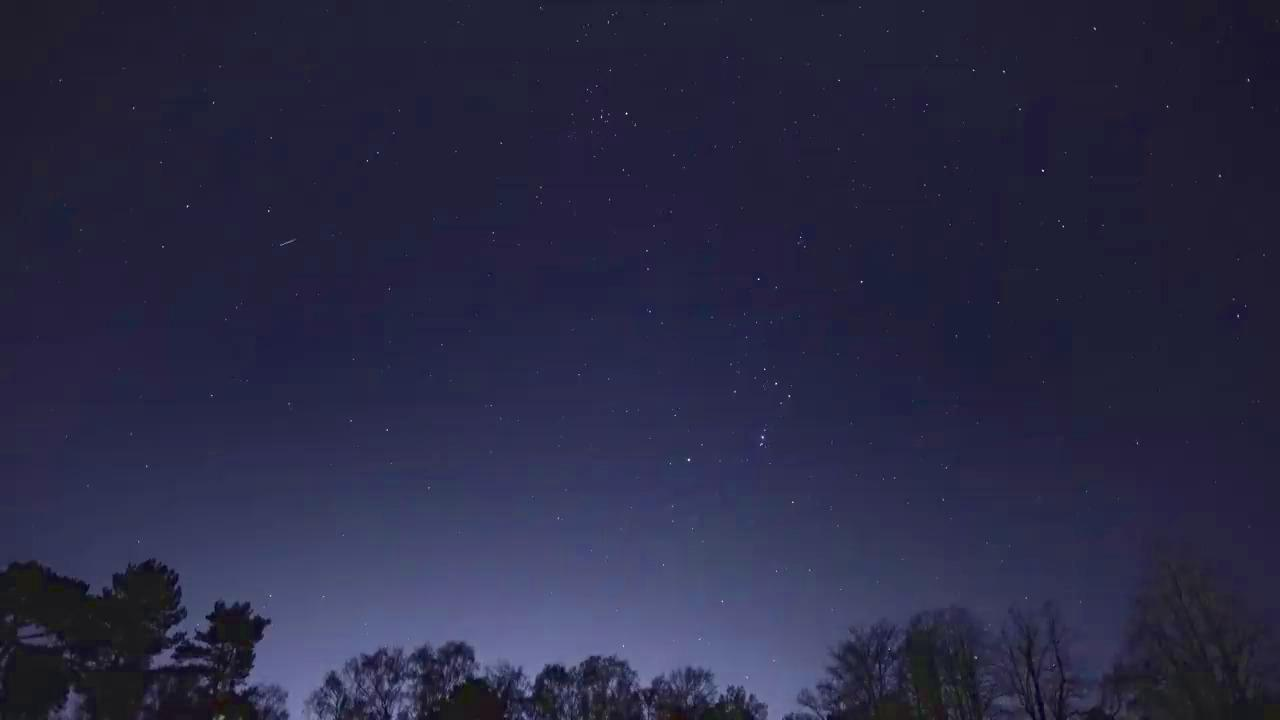meteorite: (260, 230, 315, 253)
